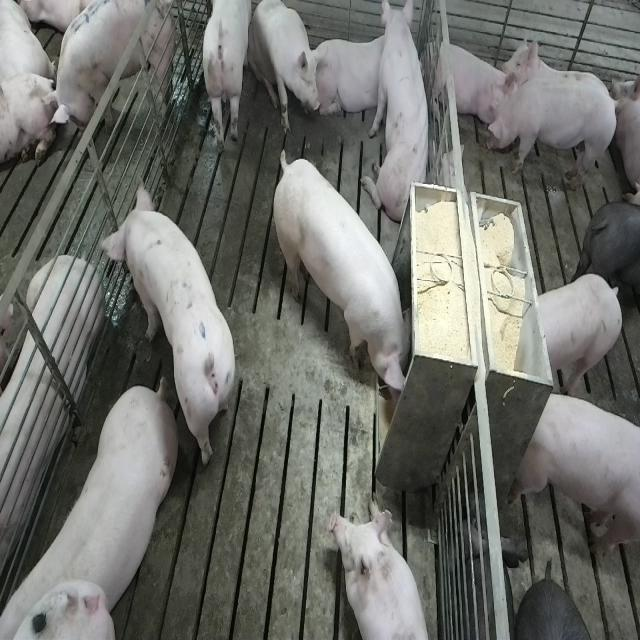Feeding: (277, 147, 420, 400)
Sitting: (368, 4, 434, 229), (249, 0, 320, 138)
Standing: (5, 374, 182, 634), (95, 179, 236, 470), (514, 387, 638, 565), (47, 0, 179, 134), (483, 79, 622, 191), (534, 272, 623, 400), (200, 2, 252, 158), (584, 191, 640, 325)
Sternal_lying: (0, 257, 101, 577), (332, 502, 436, 640), (427, 31, 509, 134), (313, 32, 393, 122), (501, 30, 565, 106)
